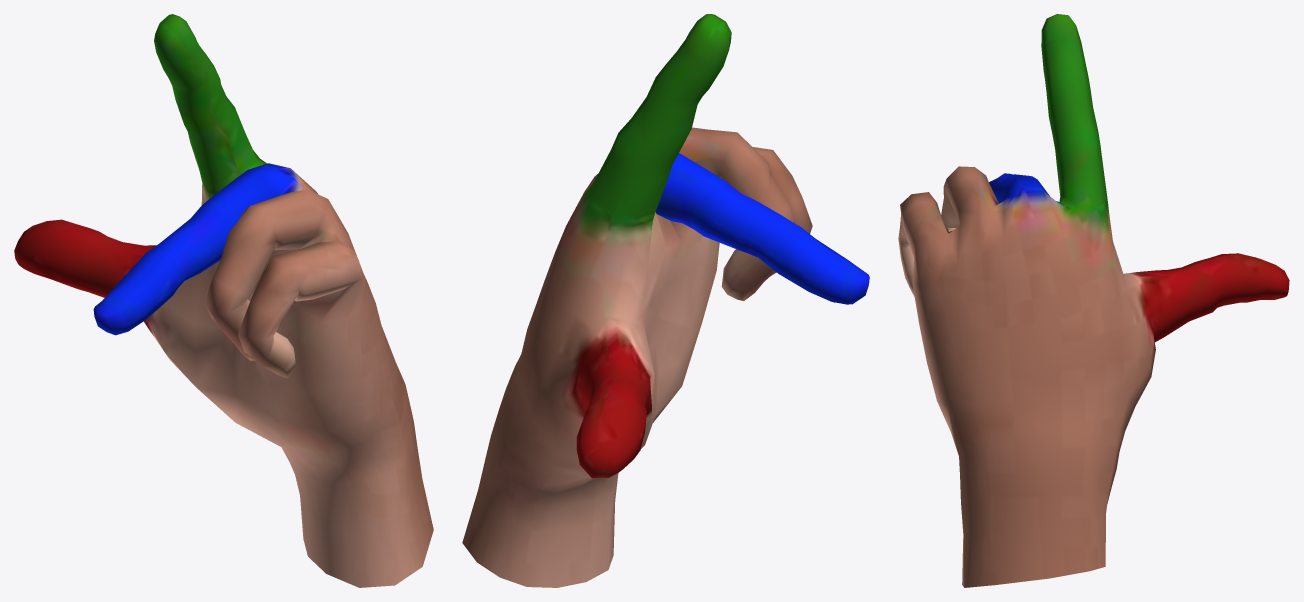
Rendered from Figure 13,12 hand.fbx.
3 views of the same model, side by side, from view 1: azimuth 30°, elevation 25°; view 2: azimuth 150°, elevation 25°; view 3: azimuth 270°, elevation 25° (orthographic). The views are drawn at different scales.
Visible parts, largest first — view 1: pasted__polySurface58; view 2: pasted__polySurface58; view 3: pasted__polySurface58.
Part boxes in pixels (left/top/right/bottom): pasted__polySurface58: left=14, top=14, right=433, bottom=587; pasted__polySurface58: left=462, top=14, right=869, bottom=587; pasted__polySurface58: left=898, top=14, right=1289, bottom=587.
Bounding box in the file's own units: 3.17 × 5.07 × 3.58.
1 material, 1 textured.
